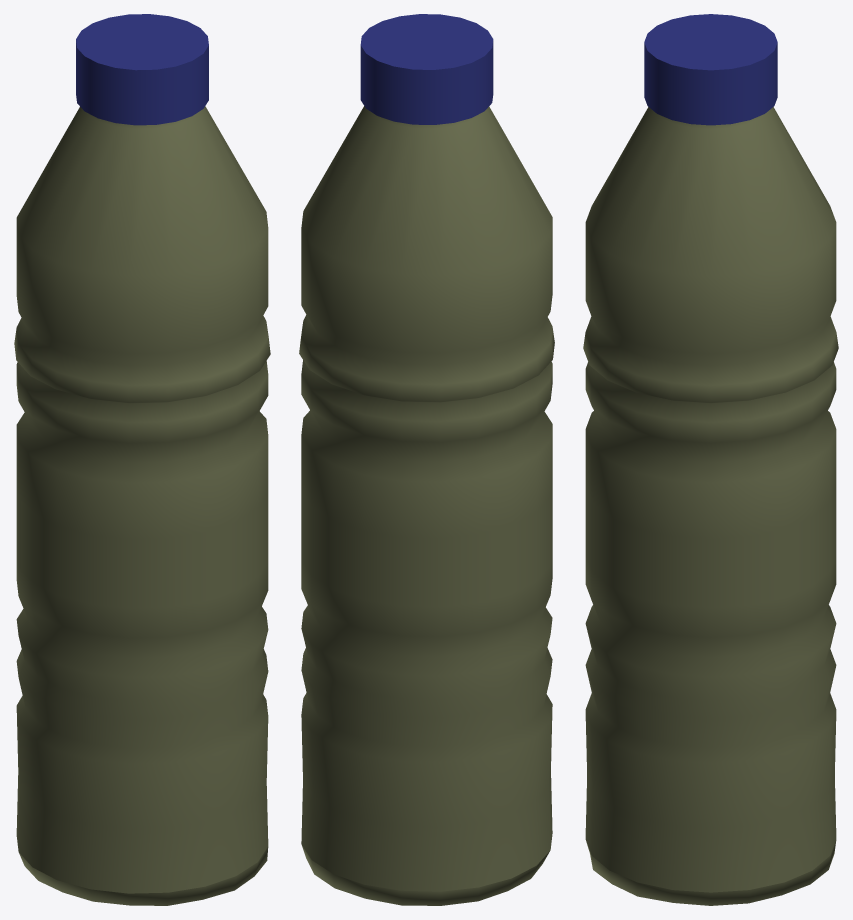
File: Plastic Bottle Empty.fbx
3 renders of one model, left to right at view 1: azimuth 30°, elevation 25°; view 2: azimuth 150°, elevation 25°; view 3: azimuth 270°, elevation 25°, orthographic.
Visible parts, largest first — view 1: polySurface5, polySurface4; view 2: polySurface5, polySurface4; view 3: polySurface5, polySurface4.
Boxes of the visible parts, x1,y1,x2,y2 form: polySurface5: [14, 106, 270, 905]; polySurface4: [76, 14, 208, 125]; polySurface5: [299, 106, 554, 905]; polySurface4: [360, 14, 493, 124]; polySurface5: [583, 107, 838, 905]; polySurface4: [644, 14, 777, 125].
Bounding box in the file's own units: 5.96 × 20.81 × 5.9.
